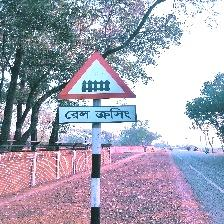Rail-crossing: (56, 51, 137, 125)
